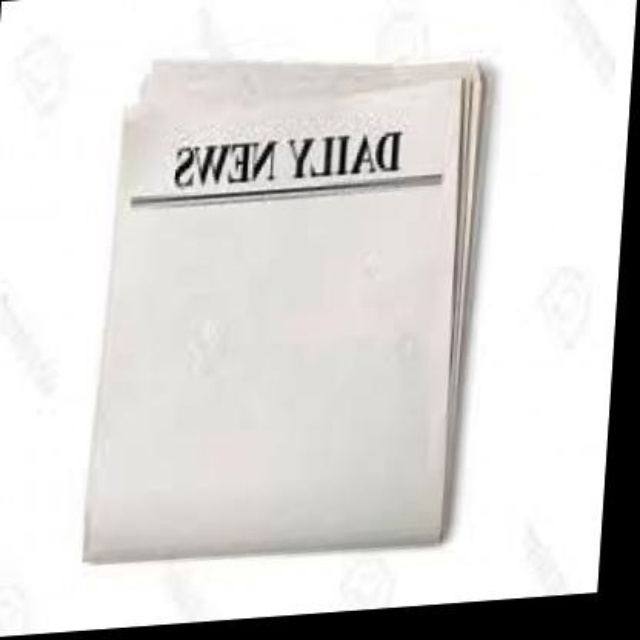trash: (85, 62, 485, 560)
